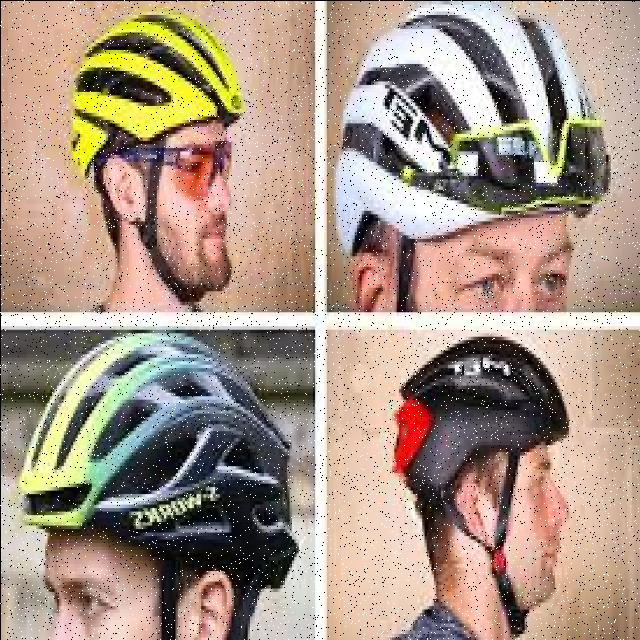Helmet: (19, 332, 296, 639), (335, 4, 609, 249), (394, 336, 564, 501), (71, 11, 243, 172)
